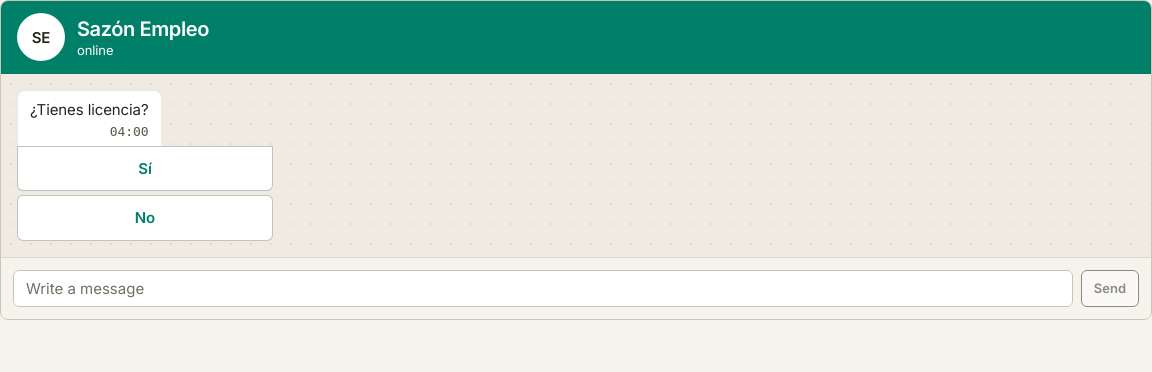
Scenario: phone pane: interactive messages › shows the server's message in an alert when the options expired (409 option_expired)
Click the button "Sí".
click(145, 169)  # box left=17, top=146, right=273, bottom=191
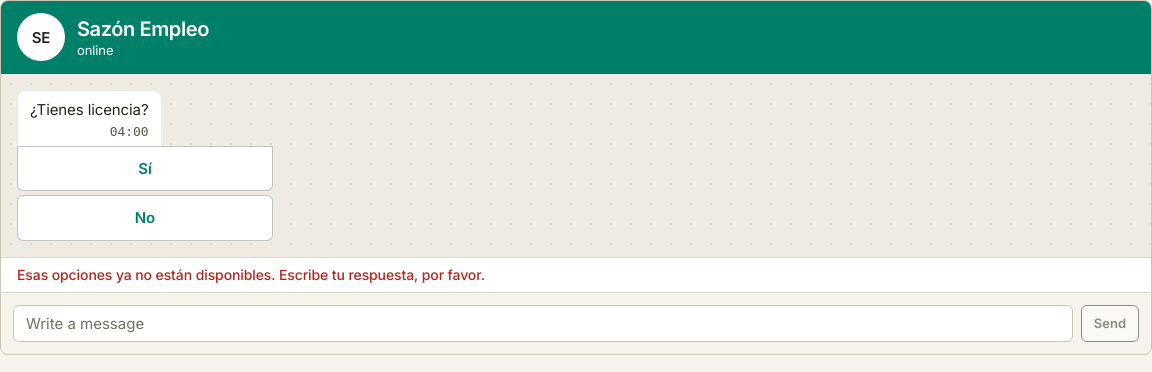
Expected: the message shows "Esas opciones ya no están disponibles.", left=17, top=266, right=485, bottom=283
